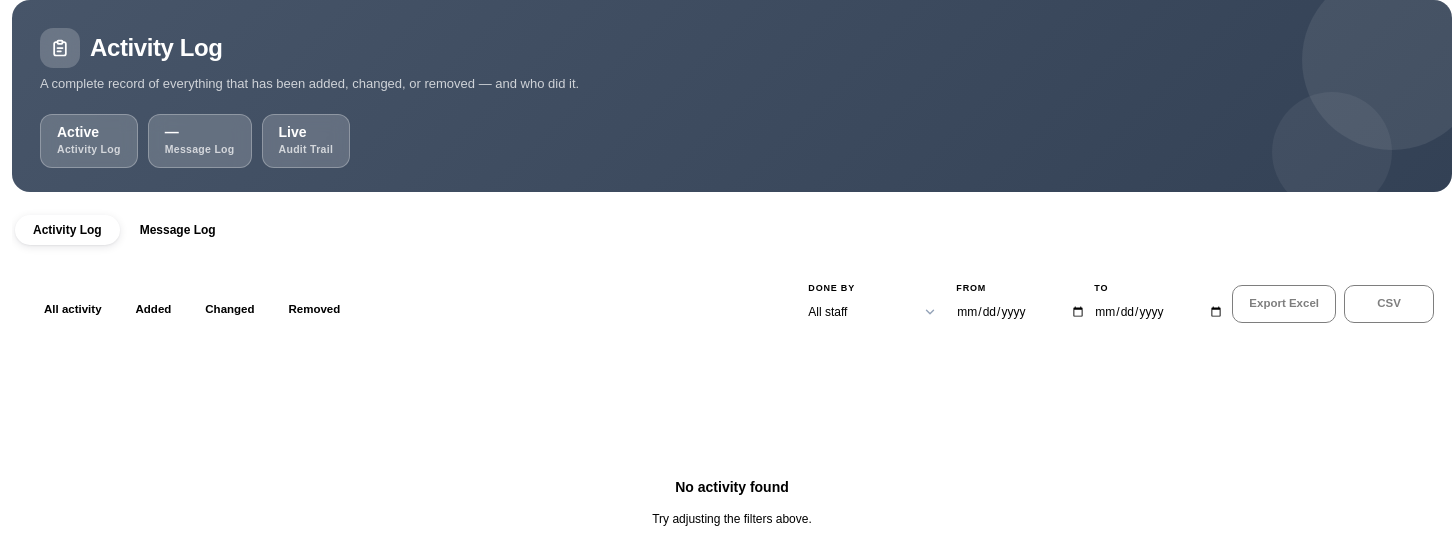
Scenario: AuditLogPage › Message Log — parent/student attribution › resolves a parent sender name instead of showing "Unknown"
Click the button "Message Log".
click(178, 230)  # box [122,215,234,245]
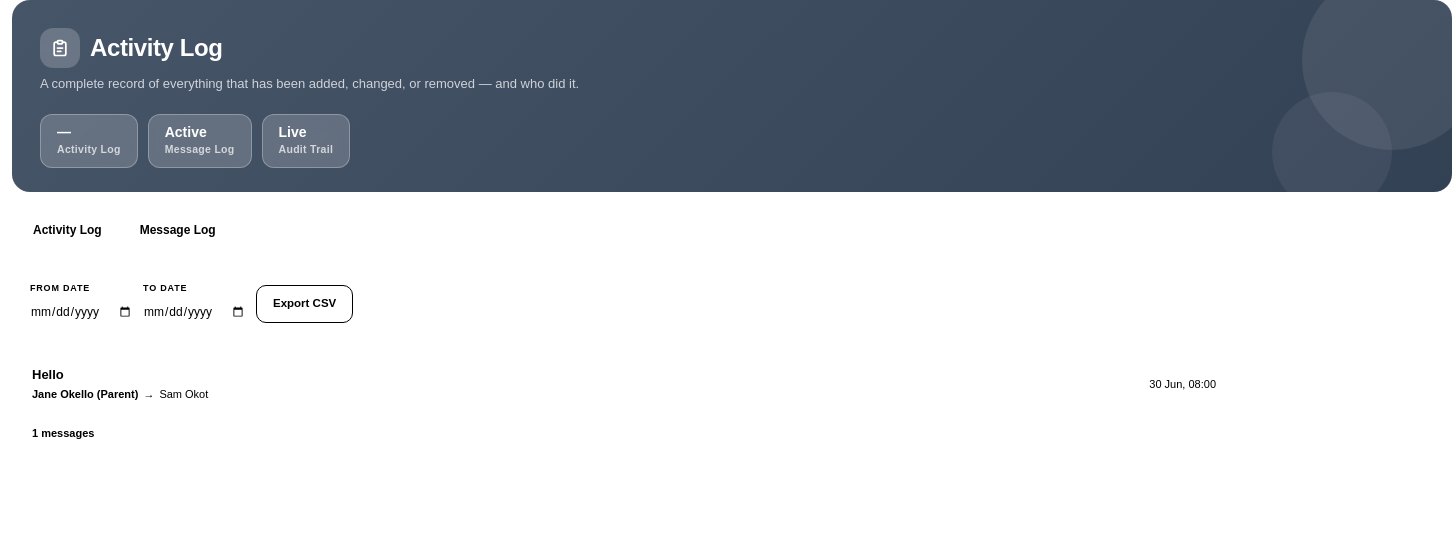
Result: the text "Jane Okello (Parent)" is shown at [32,388,138,400]
